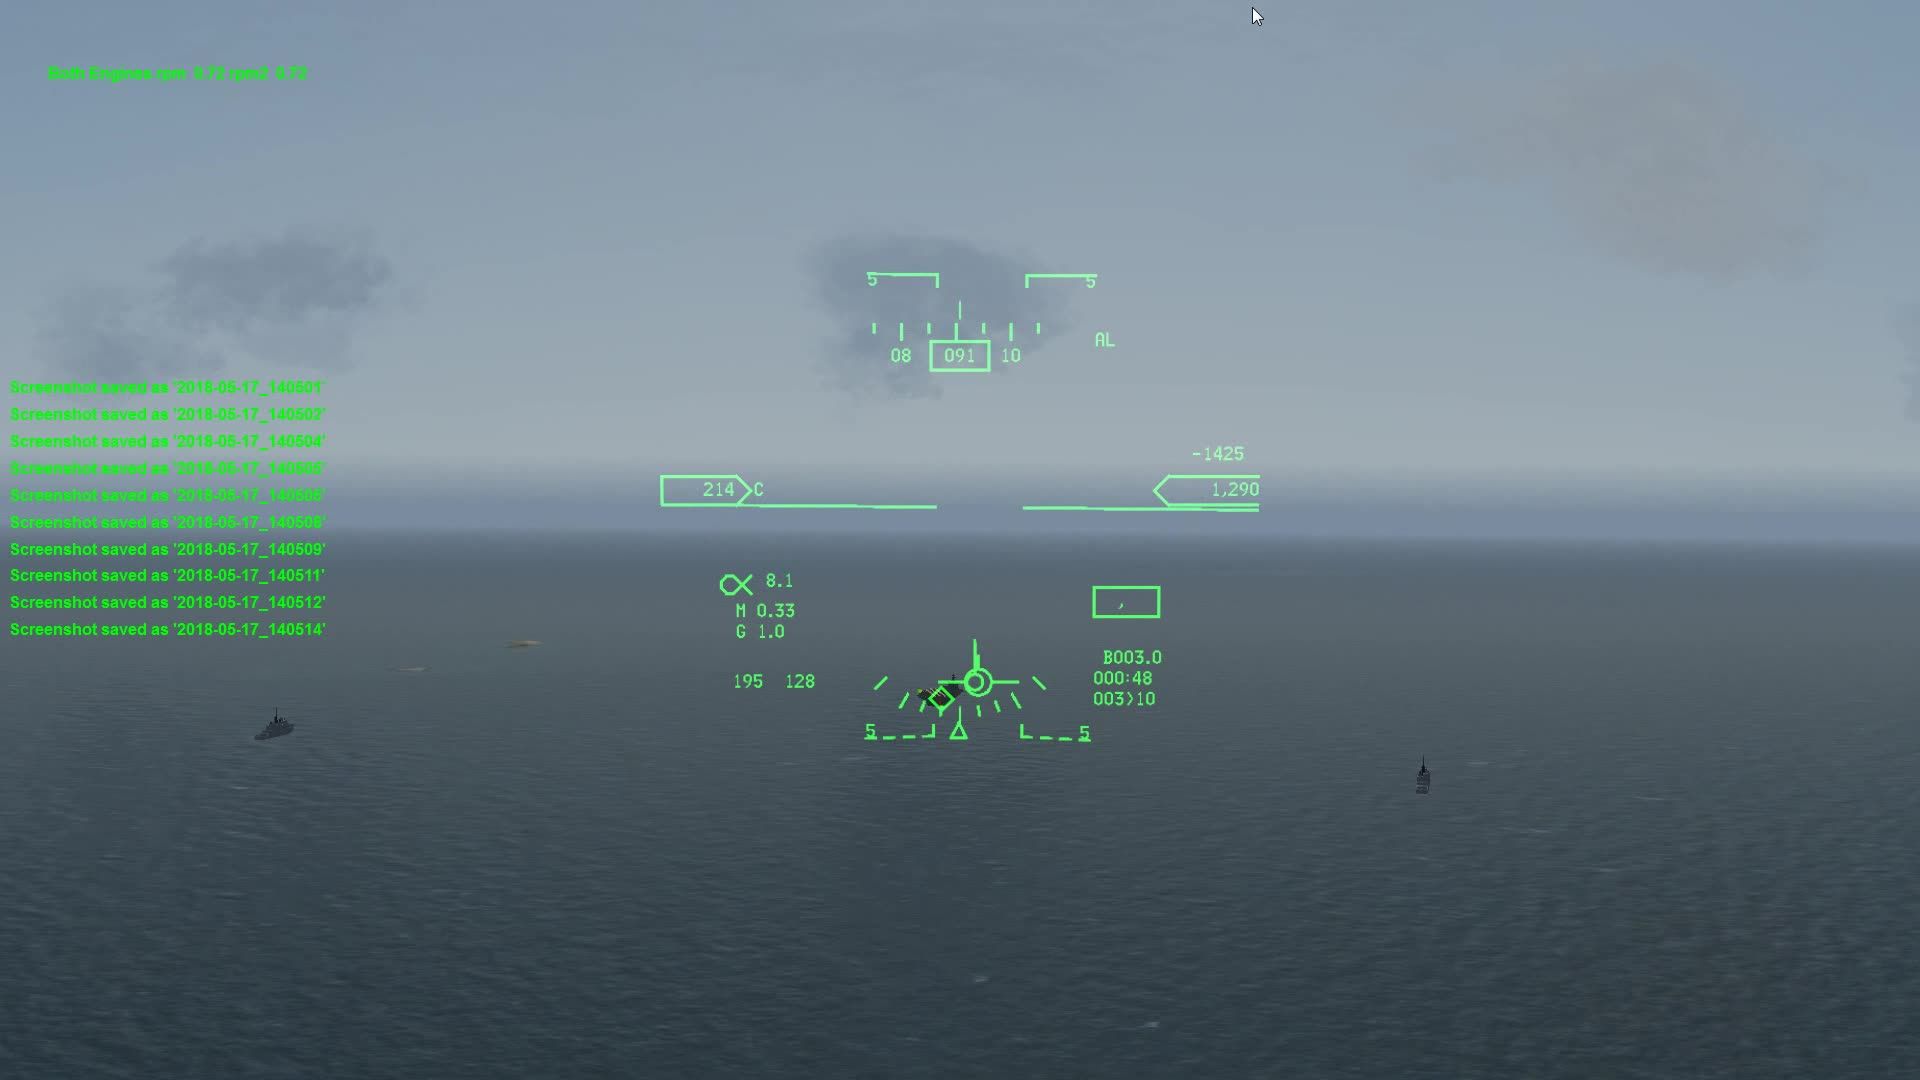speed vector: (943, 637, 1018, 703)
